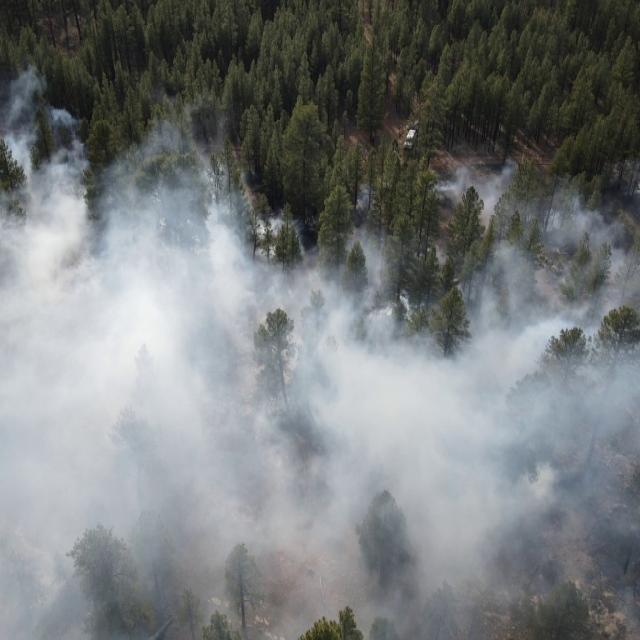smoke: (0, 219, 640, 640), (0, 58, 249, 220), (429, 161, 640, 218), (354, 170, 386, 220)
